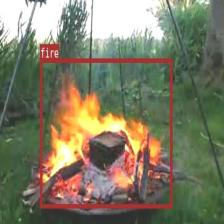fire: (40, 58, 172, 207)
